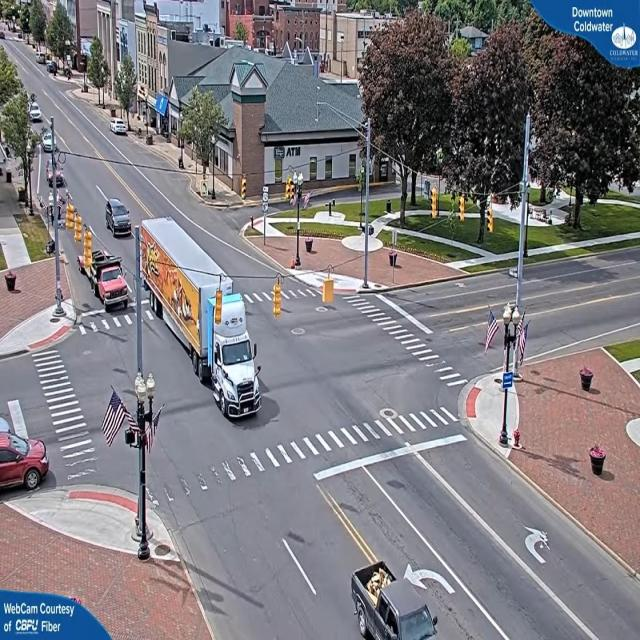car: (0, 429, 50, 497), (106, 202, 134, 236), (111, 120, 129, 136)
truck: (200, 289, 265, 418), (88, 257, 131, 309)
